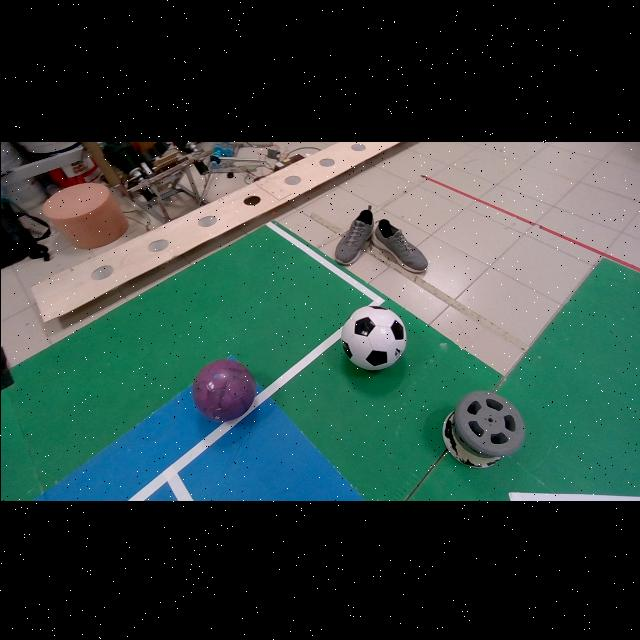P: (192, 357, 255, 420)
